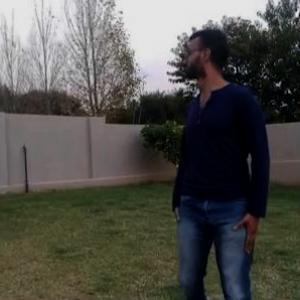follow: (171, 23, 273, 299)
